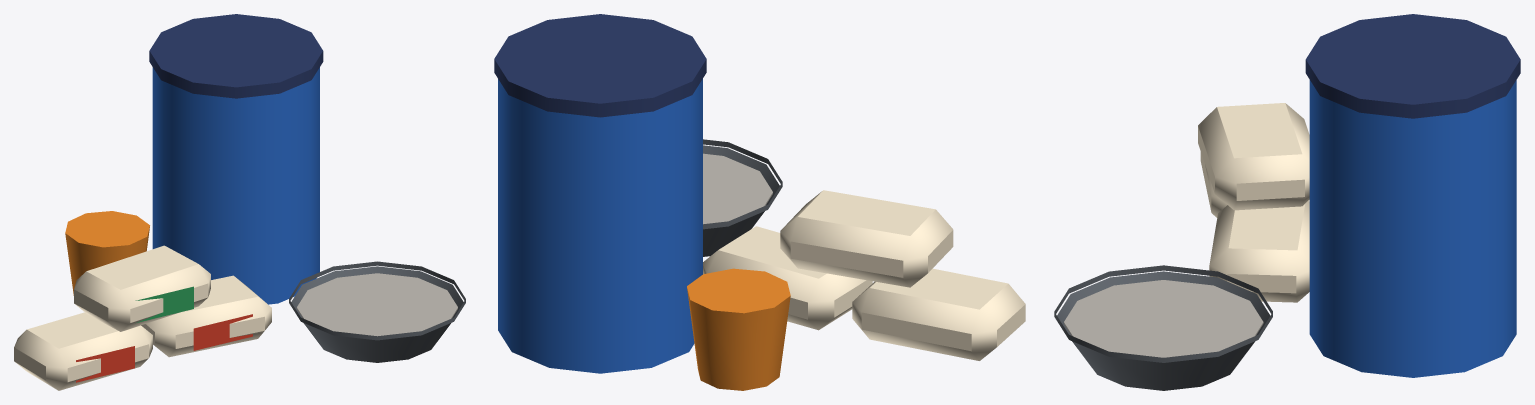
File: growth_cement.glb
The picture shows the model from 3 angles, left to right: view 1: azimuth 30°, elevation 25°; view 2: azimuth 150°, elevation 25°; view 3: azimuth 270°, elevation 25°; orthographic projection. The views are drawn at different scales.
Parts seen in each view (by area): view 1: growth_cement; view 2: growth_cement; view 3: growth_cement.
Boxes of the visible parts, x1=… form: growth_cement: x1=14, y1=14, x2=465, y2=390; growth_cement: x1=494, y1=14, x2=1025, y2=390; growth_cement: x1=1054, y1=14, x2=1520, y2=390.
Bounding box in the file's own units: 1.45 × 0.79 × 1.21.
Materials: 1 (1 with a texture image).
